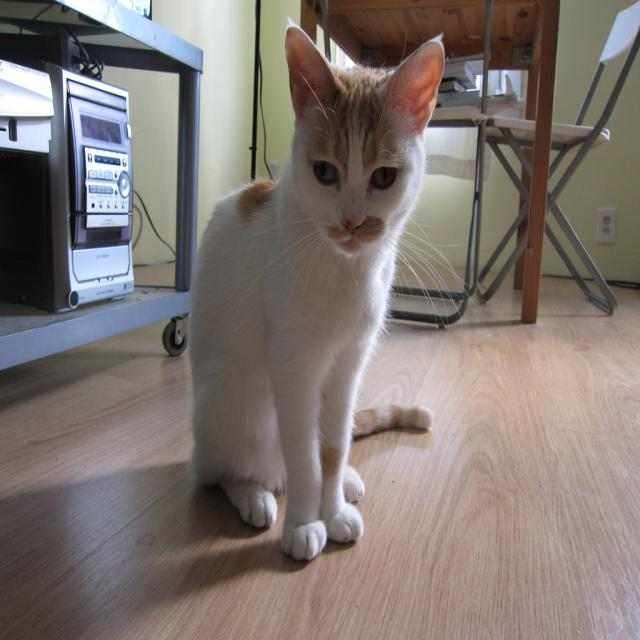Cat: (186, 14, 474, 560)
